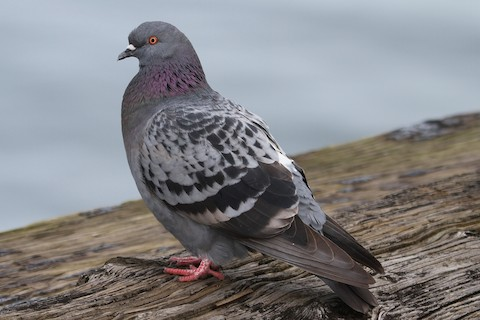pigeon: (110, 18, 387, 314)
